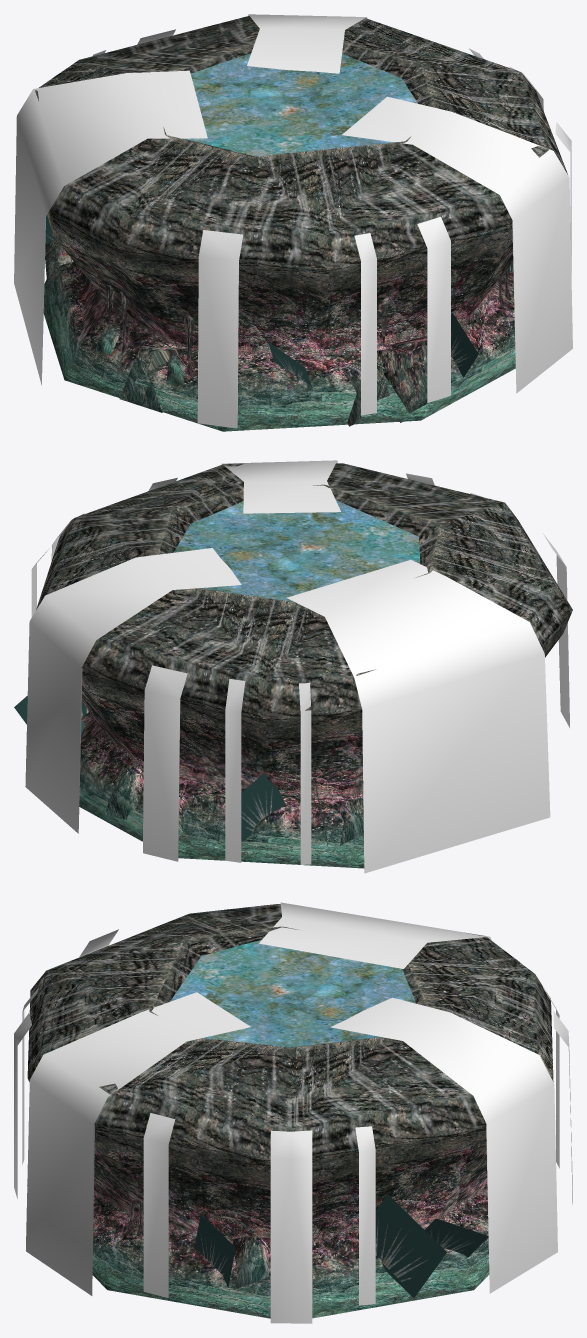
Rendered from rock_agrlt_bowl_single_l3.fbx.
The picture shows the model from 3 angles, top to bottom: view 1: azimuth 30°, elevation 25°; view 2: azimuth 150°, elevation 25°; view 3: azimuth 270°, elevation 25°; orthographic projection. The views are drawn at different scales.
Parts seen in each view (by area): view 1: mesh_node; view 2: mesh_node; view 3: mesh_node.
Part boxes in pixels (box(x1,y1,x2,y2)): mesh_node: box(14, 14, 572, 431); mesh_node: box(14, 460, 572, 873); mesh_node: box(14, 902, 572, 1323).
Bounding box in the file's own units: 42.14 × 18.72 × 41.03.
